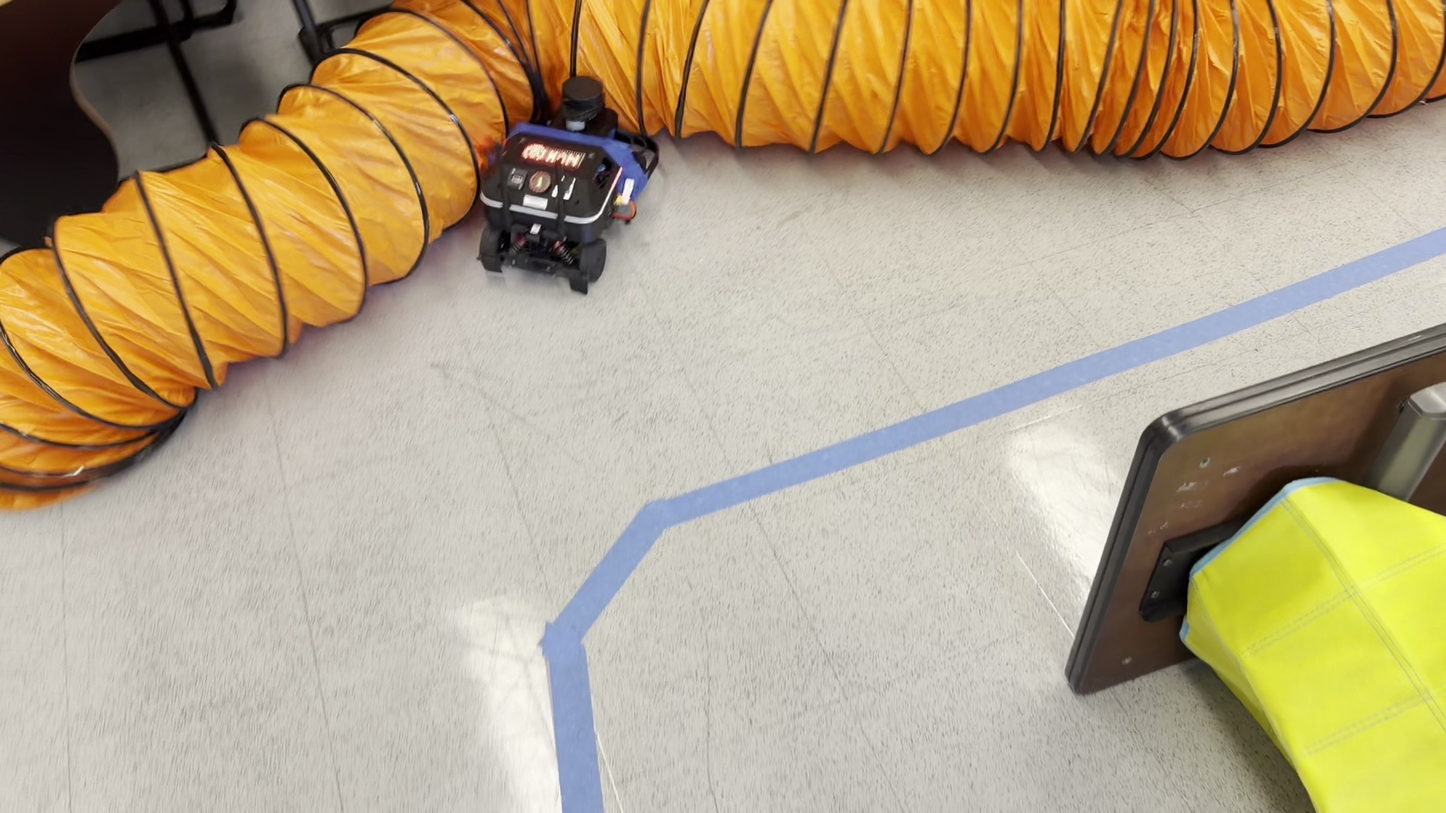racecar: (475, 78, 659, 294)
